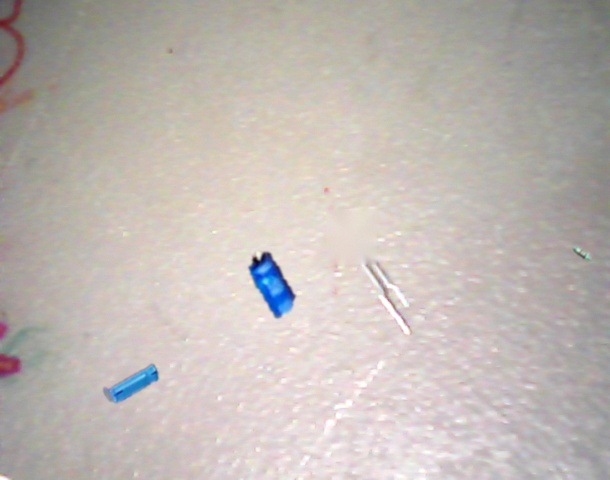capacitor: (249, 250, 296, 319), (104, 364, 159, 403)
resistor: (572, 245, 592, 262)
